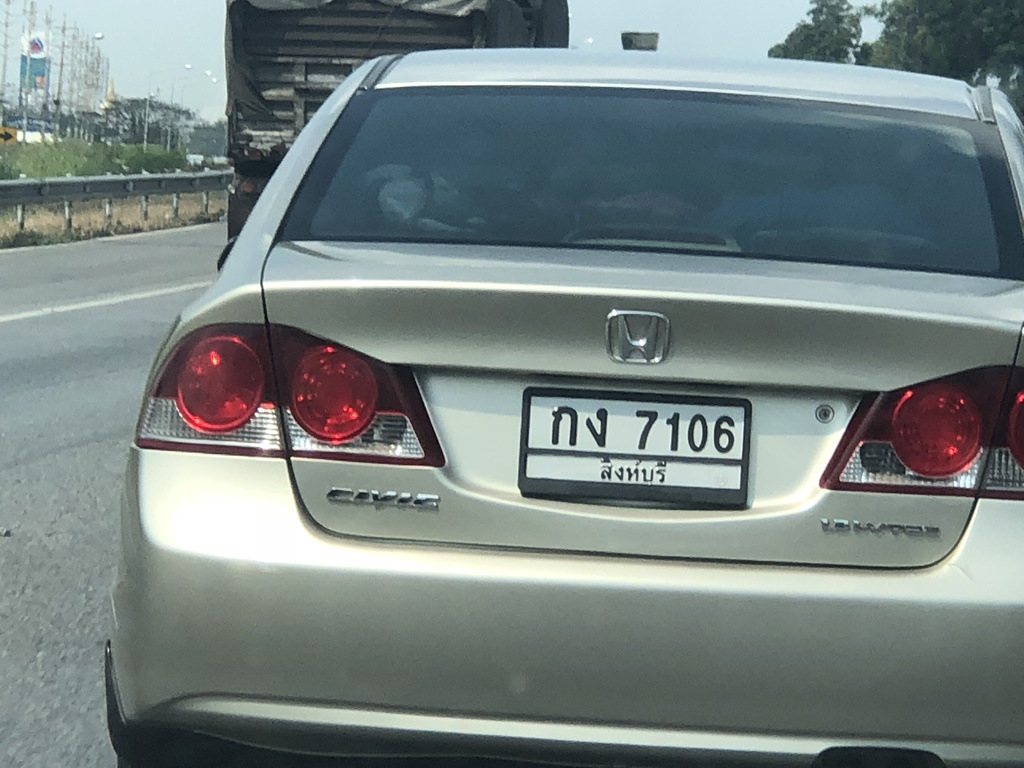plate: (514, 366, 751, 515)
zero: (680, 405, 709, 459)
